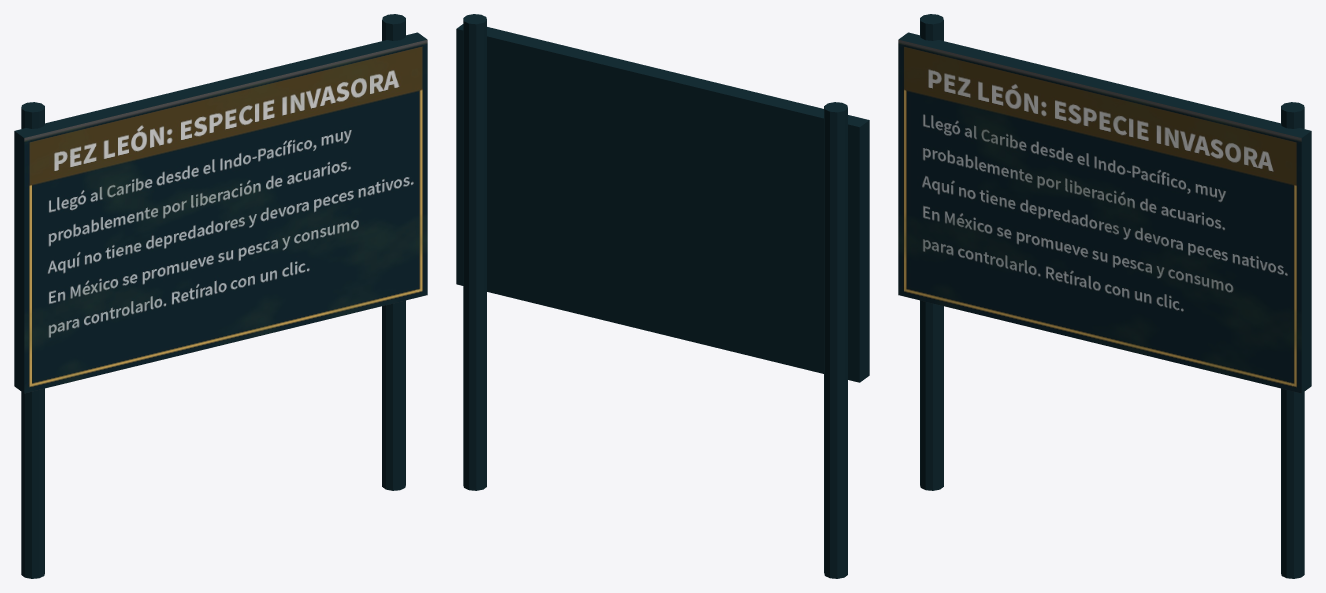
Rendered from letrero_invasor.fbx.
3 renders of one model, left to right at view 1: azimuth 30°, elevation 25°; view 2: azimuth 150°, elevation 25°; view 3: azimuth 330°, elevation 25°, orthographic.
Parts seen in each view (by area): view 1: letrero_invasor; view 2: letrero_invasor; view 3: letrero_invasor.
Boxes of the visible parts, bbox=[...] form: letrero_invasor: bbox=[14, 14, 427, 578]; letrero_invasor: bbox=[456, 14, 869, 578]; letrero_invasor: bbox=[898, 14, 1311, 578].
Bounding box in the file's own units: 1.9 × 2.1 × 0.15.
Materials: 1 (1 with a texture image).
